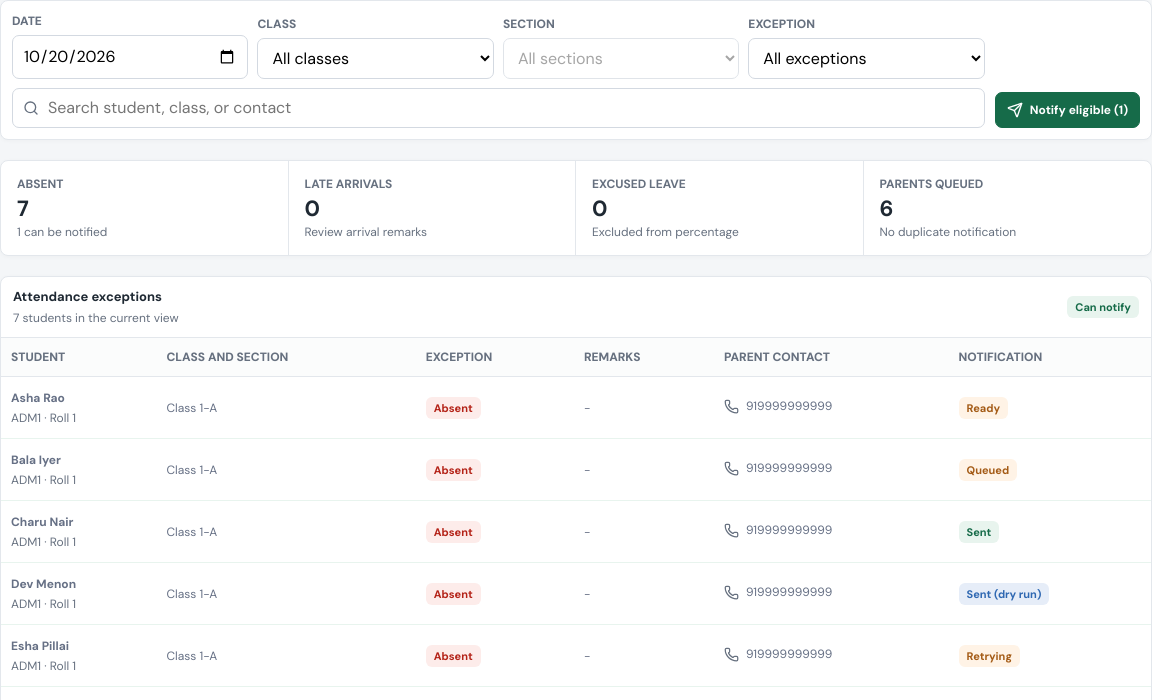
it: AttendanceAbsenteePanel delivery status › says queued, not delivered, after notify succeeds
Expected: the text "Asha Rao" is shown, [11,390,65,406]
Step 1. Click the button "Notify eligible (1)" → (1067, 110), box [995,92,1140,128]
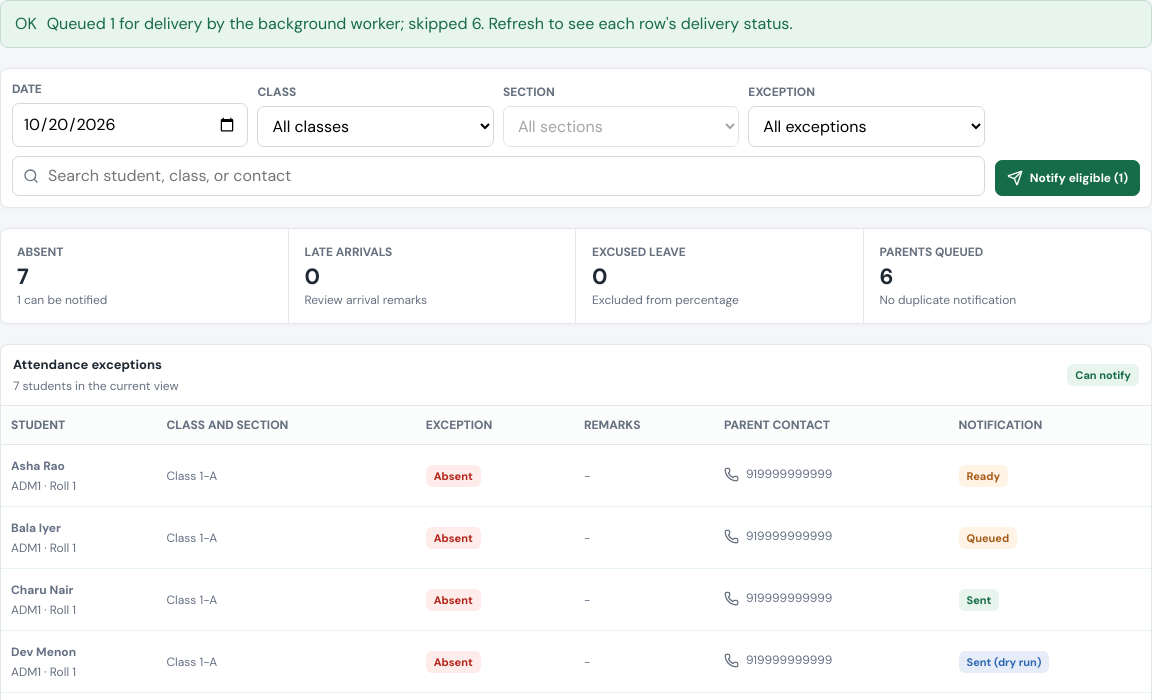
Result: the text "Queued 1 for delivery" shows "background worker" at [47,13,792,34]
Result: the text "Queued 1 for delivery" shows "skipped 6" at [47,13,792,34]
